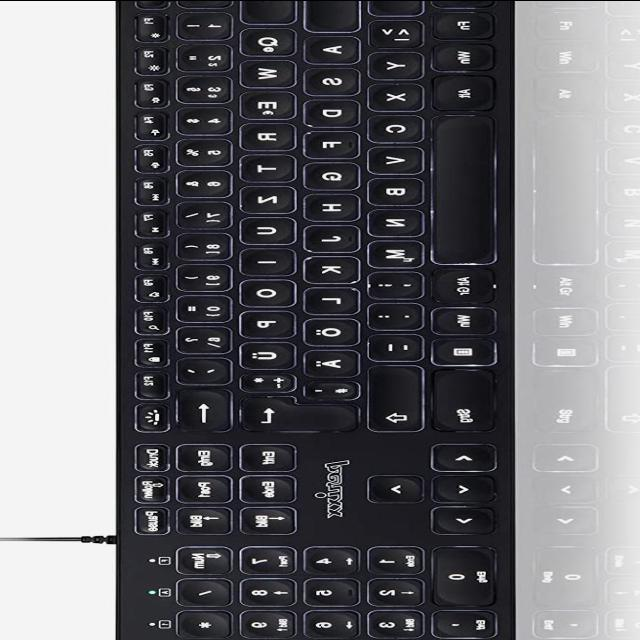0: (171, 293, 229, 321)
1: (172, 10, 228, 38)
2: (171, 42, 229, 70)
3: (171, 73, 227, 102)
4: (171, 105, 227, 133)
5: (171, 136, 227, 164)
6: (171, 168, 227, 196)
7: (171, 199, 229, 227)
8: (171, 230, 229, 258)
9: (171, 262, 229, 290)
a: (298, 33, 356, 62)
accent: (171, 355, 227, 383)
ae: (297, 347, 355, 375)
alt-left: (426, 72, 492, 110)
altgr-right: (427, 266, 491, 302)
b: (362, 174, 420, 204)
c: (361, 112, 421, 141)
caret: (173, 0, 227, 5)
comma: (361, 269, 419, 297)
d: (297, 97, 357, 125)
del: (171, 387, 227, 430)
e: (234, 89, 292, 118)
enter: (232, 393, 355, 429)
f: (298, 128, 356, 156)
g: (298, 159, 356, 188)
h: (298, 191, 356, 219)
hash: (298, 379, 356, 398)
i: (234, 246, 290, 274)
j: (298, 222, 356, 250)
k: (297, 254, 355, 282)
keyboard: (109, 0, 516, 640)
l: (297, 284, 355, 312)
less: (362, 17, 420, 46)
m: (362, 237, 420, 267)
minus: (362, 331, 418, 359)
n: (362, 206, 420, 235)
o: (234, 277, 292, 305)
oe: (297, 315, 355, 344)
p: (235, 308, 291, 336)
plus: (233, 370, 293, 390)
point: (362, 300, 418, 328)
q: (233, 25, 293, 55)
r: (234, 121, 292, 149)
s: (298, 65, 356, 94)
shift-left: (363, 0, 421, 14)
shift-lock: (297, 0, 356, 30)
shift-right: (361, 363, 419, 431)
space: (425, 113, 493, 263)
ss: (171, 324, 227, 352)
strg-left: (426, 0, 492, 6)
strg-right: (426, 368, 492, 432)
t: (233, 152, 291, 180)
tab: (234, 0, 292, 21)
u: (234, 215, 292, 243)
ue: (233, 339, 291, 367)
v: (361, 144, 419, 173)
w: (234, 57, 292, 85)
x: (362, 81, 420, 110)
y: (362, 49, 420, 77)
z: (234, 183, 292, 211)
